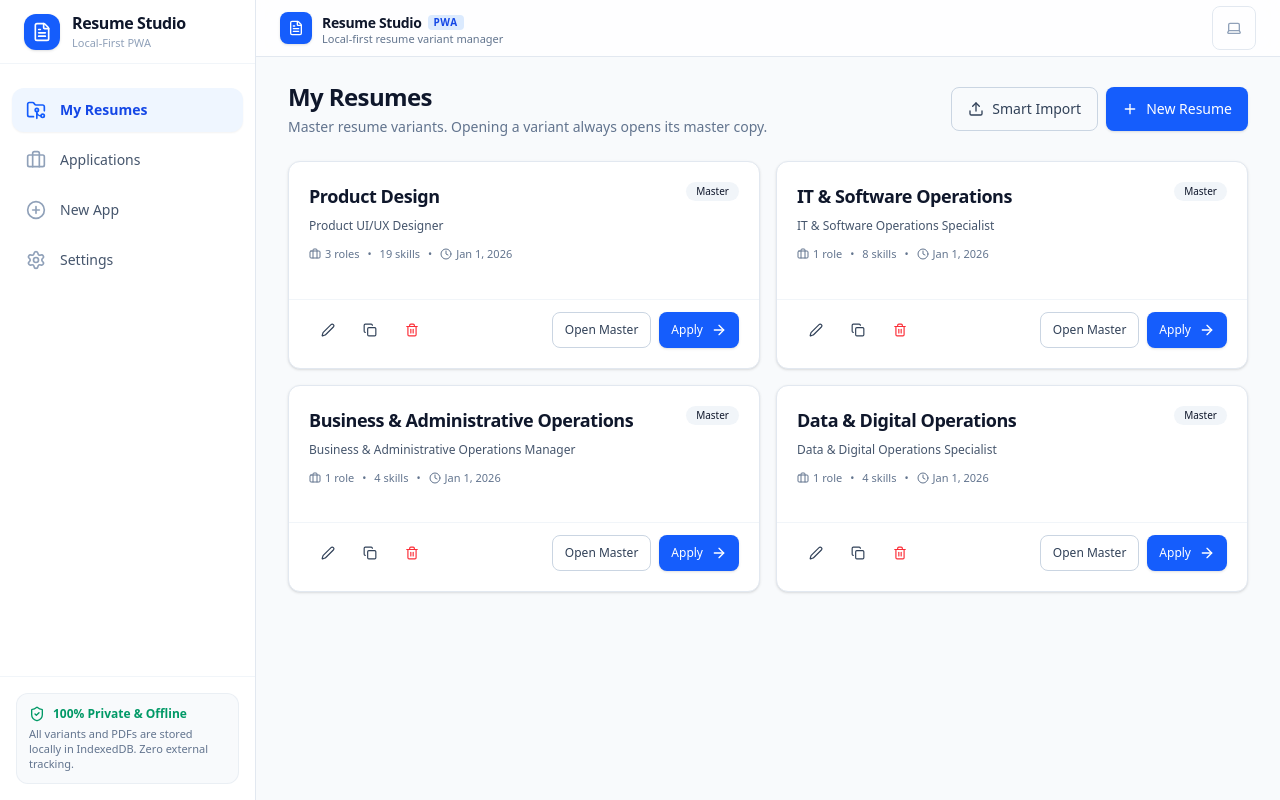
Phase 3 Integration: Resume Library & Application Creation Flow › My Resumes (Master Variant Library) › opens master resume in editor session (always master, never tailored)
Expected: the heading "My Resumes" is shown, x1=288 y1=80 x2=432 y2=113
Click the button "Open Master" below "roles" at (602, 330), box x1=552 y1=312 x2=651 y2=348
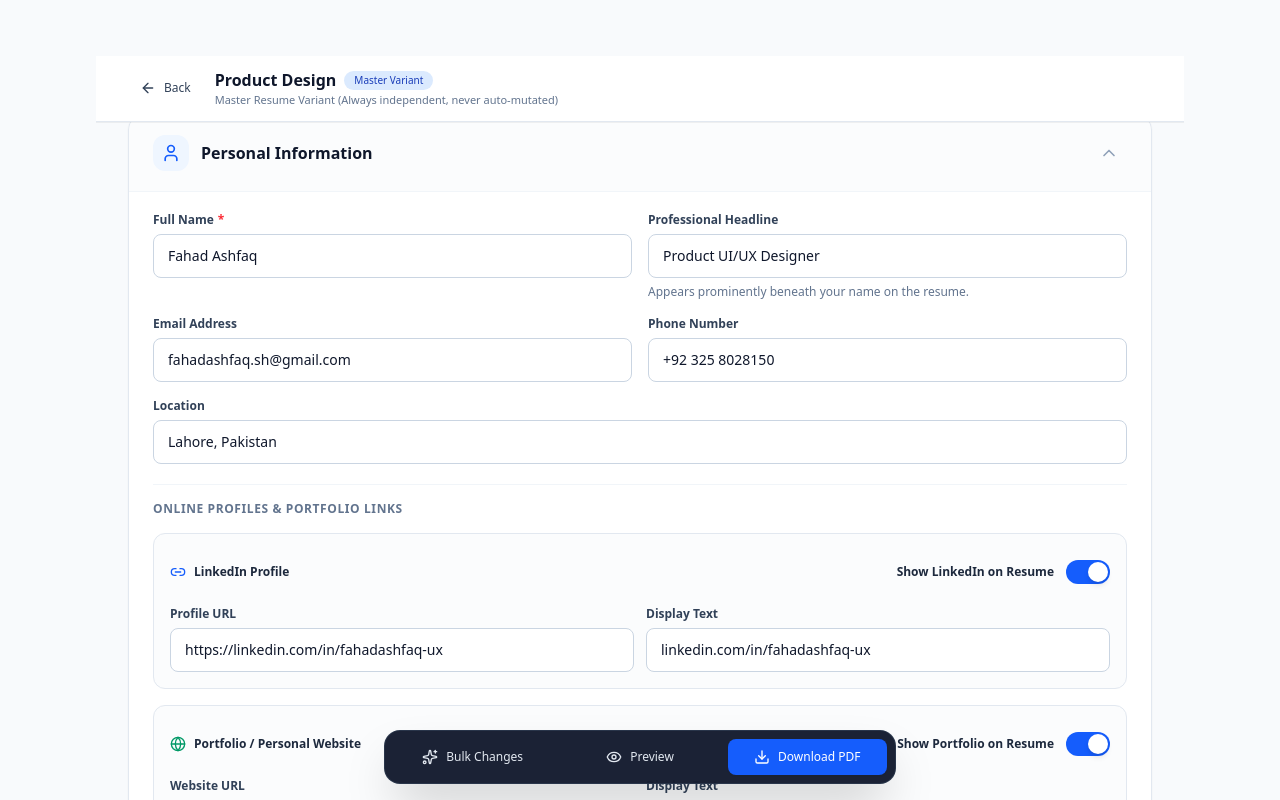
Expected: the text "Master Resume Variant (Always independent" is shown, x1=215 y1=92 x2=558 y2=107
Expected: the heading "Personal Information" is shown, x1=201 y1=140 x2=373 y2=164
Click the button "Back" at (165, 88), box x1=128 y1=70 x2=203 y2=106
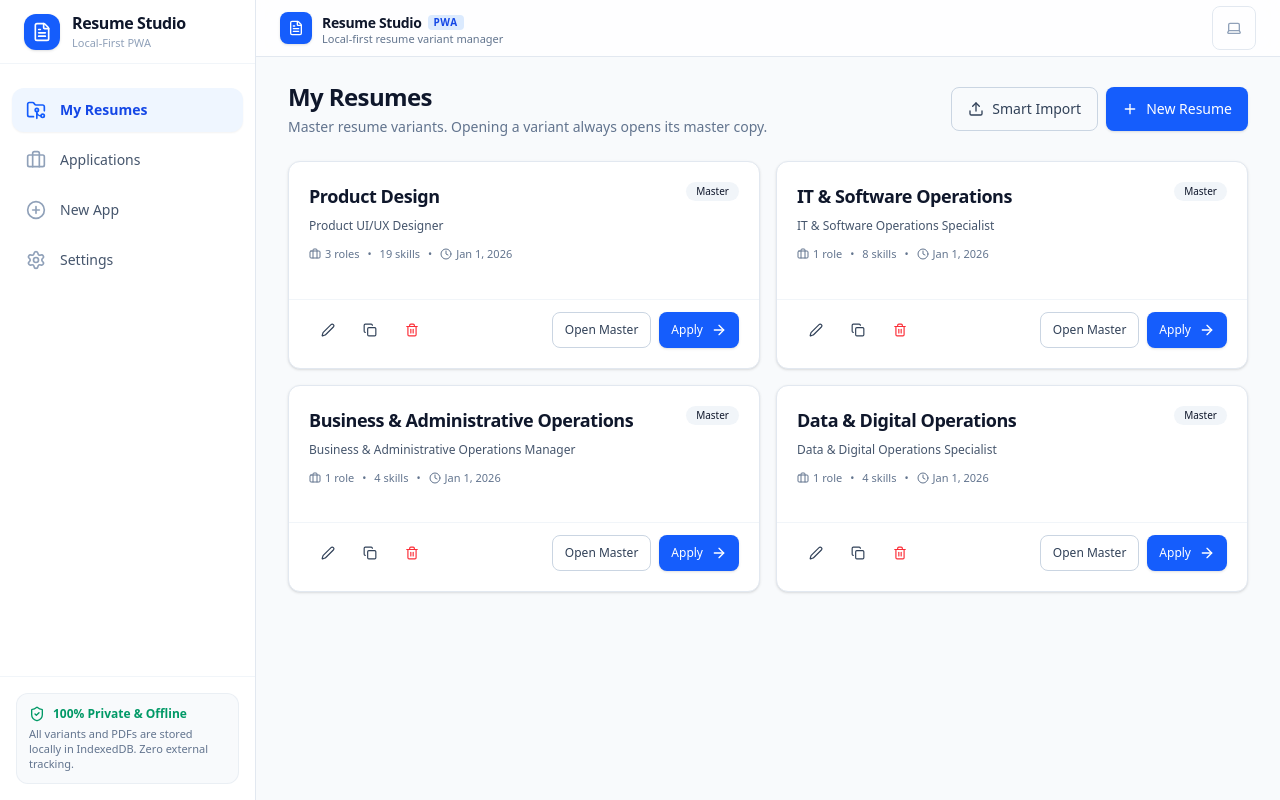
Expected: the heading "My Resumes" is shown, x1=288 y1=80 x2=432 y2=113
